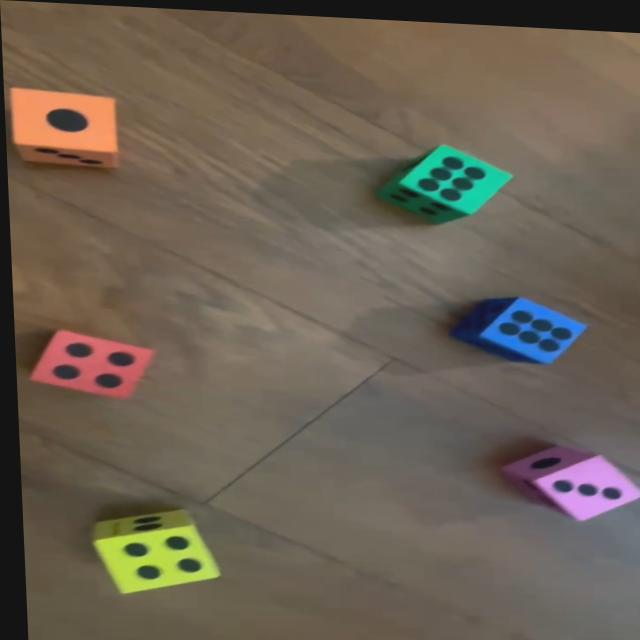cube: (379, 137, 513, 223), (448, 289, 584, 360), (27, 327, 154, 401)
